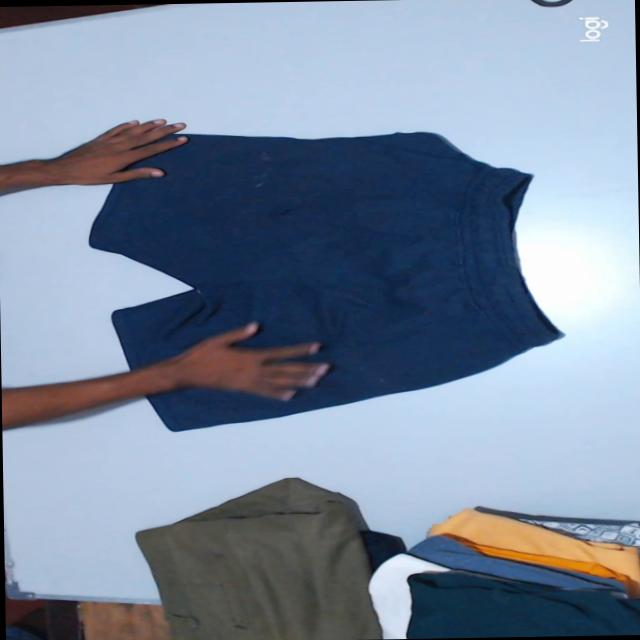new-garment: (89, 131, 557, 430)
